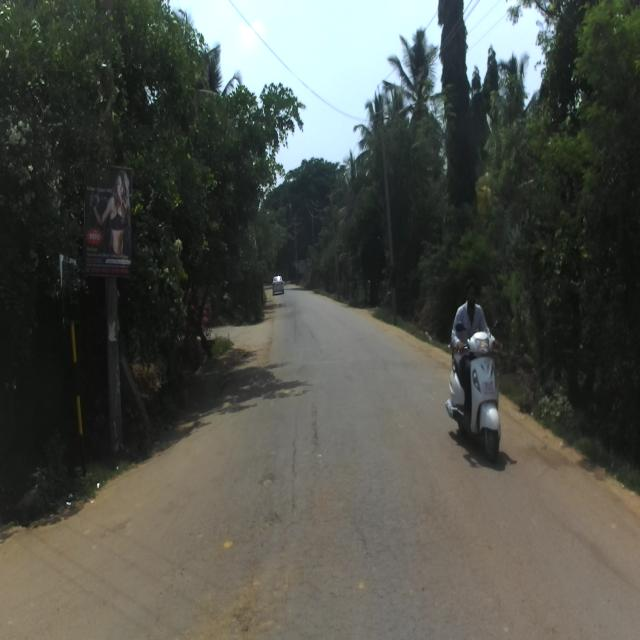motorcycle ahead at: (447, 322, 507, 465)
